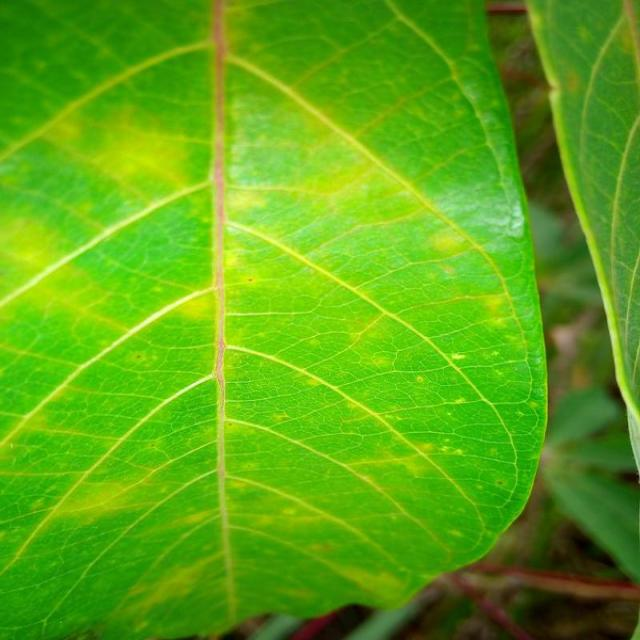cassava leaf: (0, 0, 550, 638), (525, 0, 639, 476)
